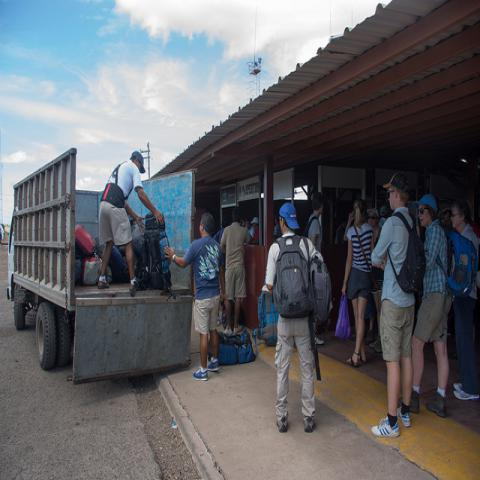truck: (7, 149, 196, 388)
